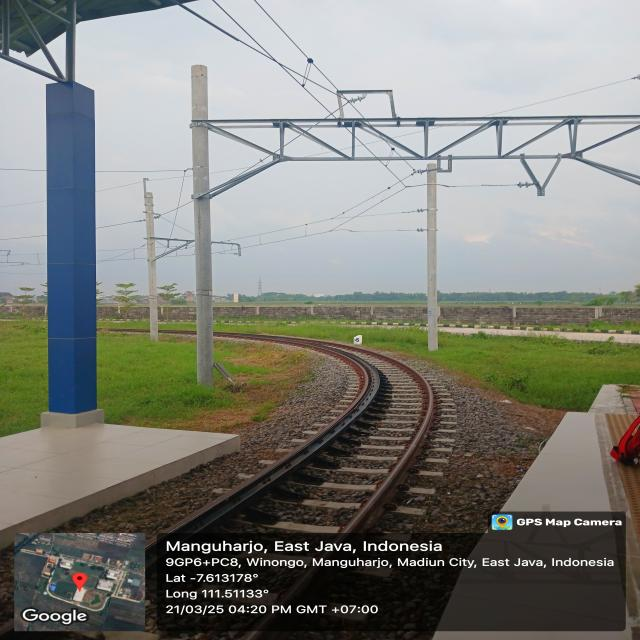rail-detection: (148, 333, 438, 580), (279, 568, 319, 607)
